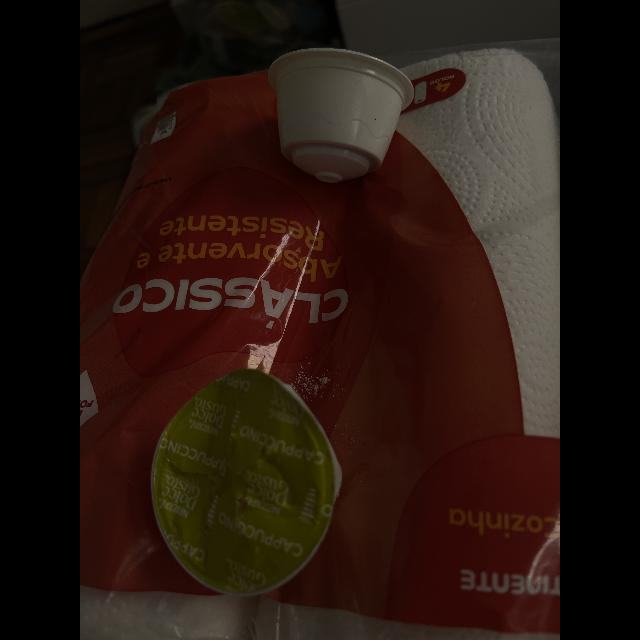damaged_capsule: (138, 361, 352, 599)
intact_capsule: (260, 42, 422, 196)
